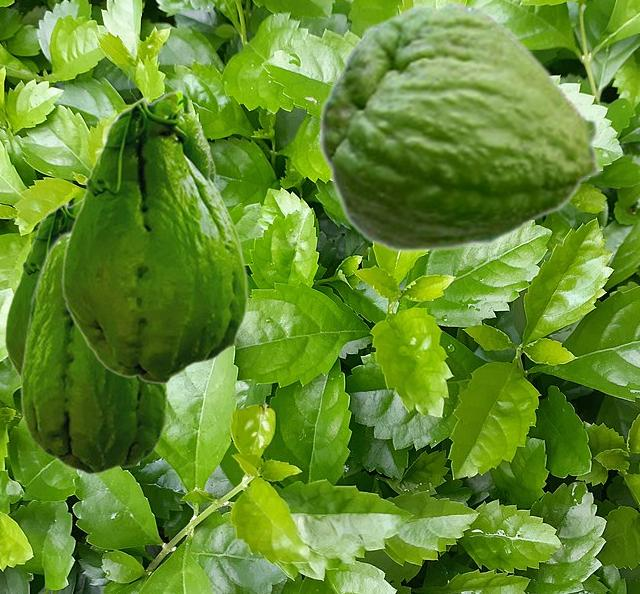sayote: (318, 0, 604, 253), (61, 89, 248, 384), (20, 228, 167, 474), (4, 198, 81, 378)
